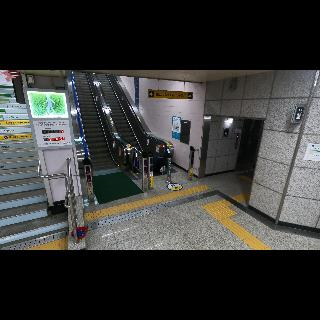anomaly: (143, 151, 167, 175)
